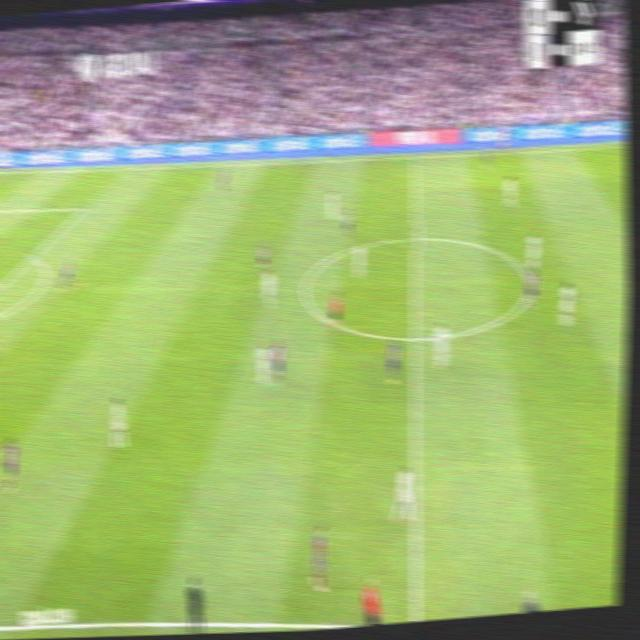bigarea_top_inner: (77, 202, 90, 215)
corner: (0, 166, 2, 177)
halfcircle_bottom: (406, 324, 424, 352)
halfcircle_top: (407, 224, 425, 251)
midline_top_intersection: (409, 150, 422, 164)
top_arc_area_intersection: (27, 248, 40, 263)
